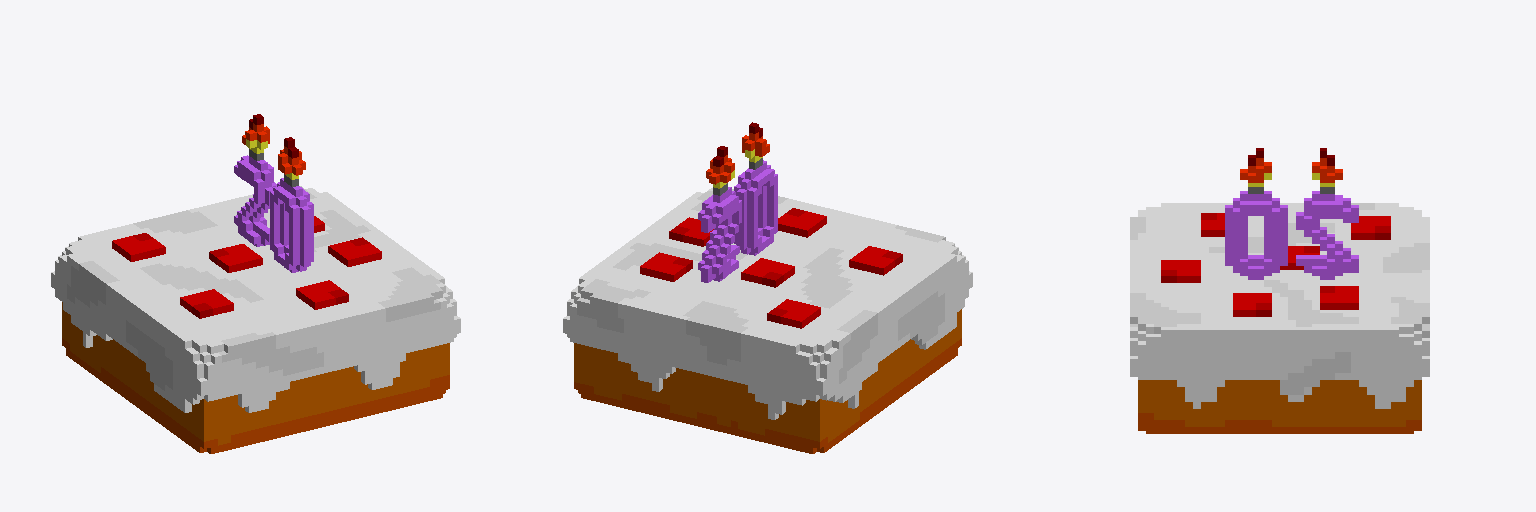
3 views of the same model, side by side, from view 1: azimuth 30°, elevation 25°; view 2: azimuth 150°, elevation 25°; view 3: azimuth 270°, elevation 25° (orthographic).
Visible parts, largest first — view 1: cake; view 2: cake; view 3: cake.
Boxes of the visible parts, x1,y1,x2,y2 form: cake: [51, 114, 460, 453]; cake: [563, 122, 972, 453]; cake: [1130, 148, 1429, 433].
Size of the model in its own units: 3.8 by 3.3 by 3.8.
1 materials, 1 textured.